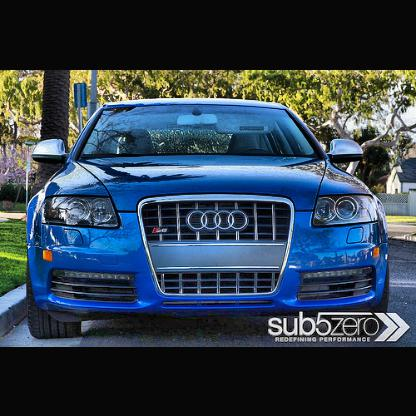Audi S6 Sedan 2011: (25, 97, 393, 345)
